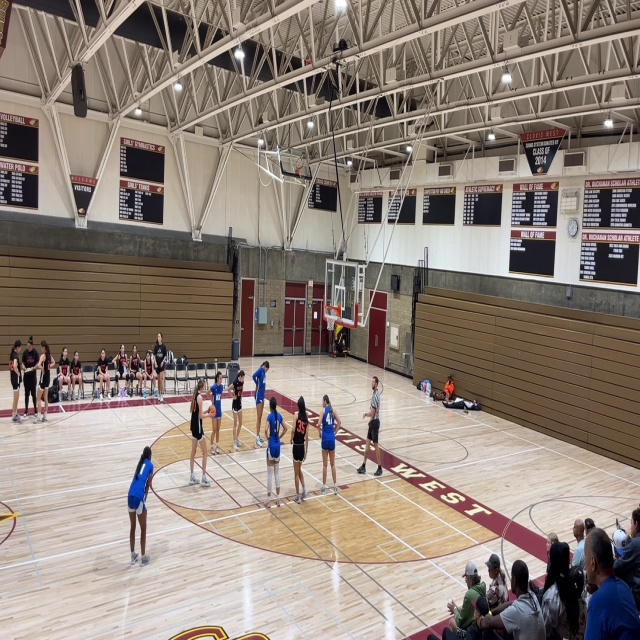Basketball: (207, 405, 216, 417)
